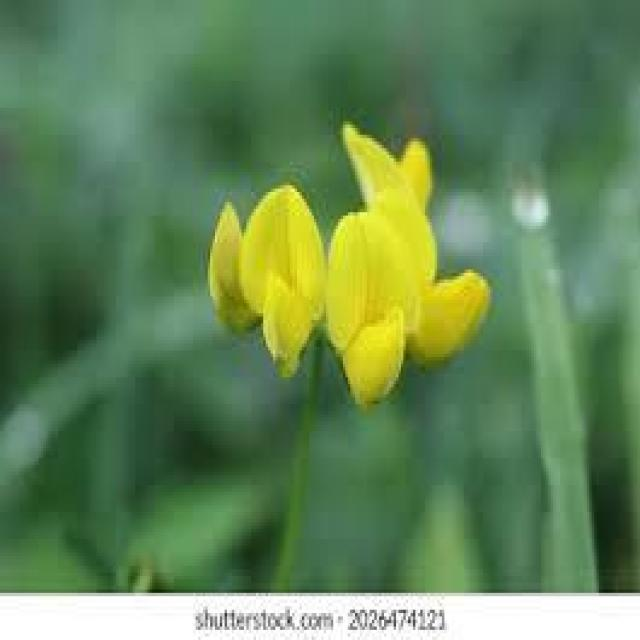organic waste: (206, 123, 492, 396)
